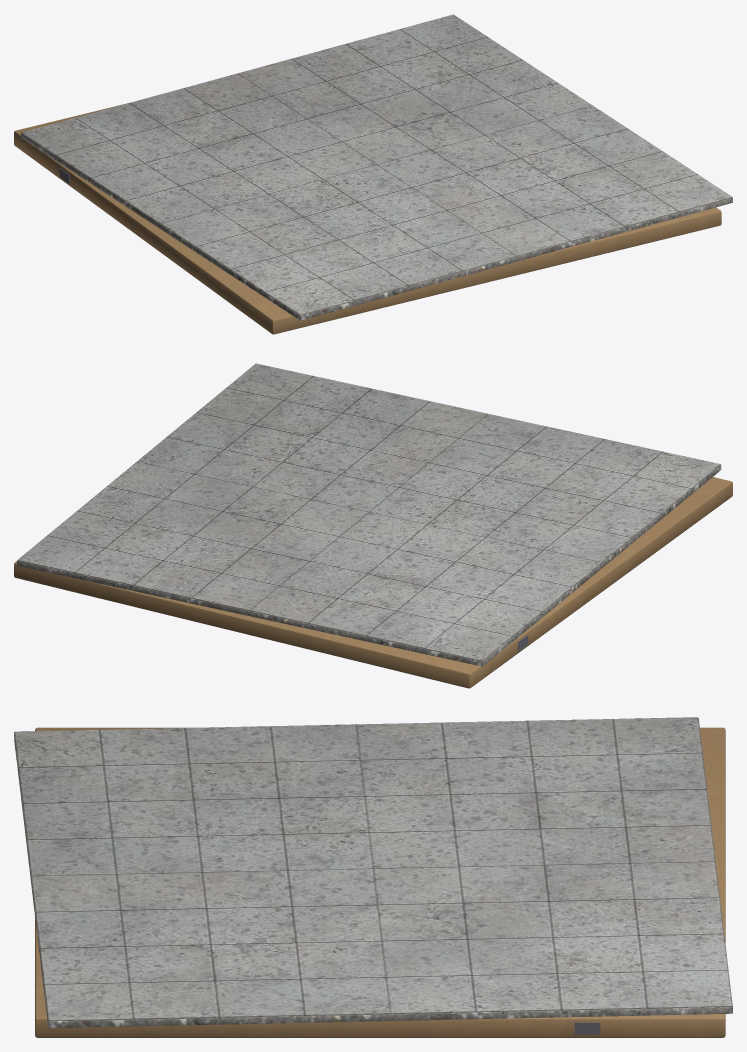
The model's file is PIS-CER-004.glb.
3 renders of one model, top to bottom at view 1: azimuth 30°, elevation 25°; view 2: azimuth 150°, elevation 25°; view 3: azimuth 270°, elevation 25°, orthographic. The views are drawn at different scales.
Parts seen in each view (by area): view 1: PIS-CER-004_face, PIS-CER-004_caixa, PIS-CER-004_corpo; view 2: PIS-CER-004_face, PIS-CER-004_caixa, PIS-CER-004_corpo; view 3: PIS-CER-004_face, PIS-CER-004_caixa, PIS-CER-004_corpo.
Boxes of the visible parts, left/top/right/bottom form: PIS-CER-004_face: left=21, top=14, right=732, bottom=315; PIS-CER-004_caixa: left=14, top=104, right=721, bottom=334; PIS-CER-004_corpo: left=21, top=133, right=732, bottom=320; PIS-CER-004_face: left=17, top=363, right=720, bottom=661; PIS-CER-004_caixa: left=14, top=477, right=732, bottom=688; PIS-CER-004_corpo: left=17, top=465, right=721, bottom=666; PIS-CER-004_face: left=14, top=717, right=732, bottom=1021; PIS-CER-004_caixa: left=35, top=727, right=725, bottom=1037; PIS-CER-004_corpo: left=14, top=719, right=732, bottom=1028.
Size of the model in its own units: 0.8389 by 0.0366 by 0.8389.
6 materials, 4 textured.
